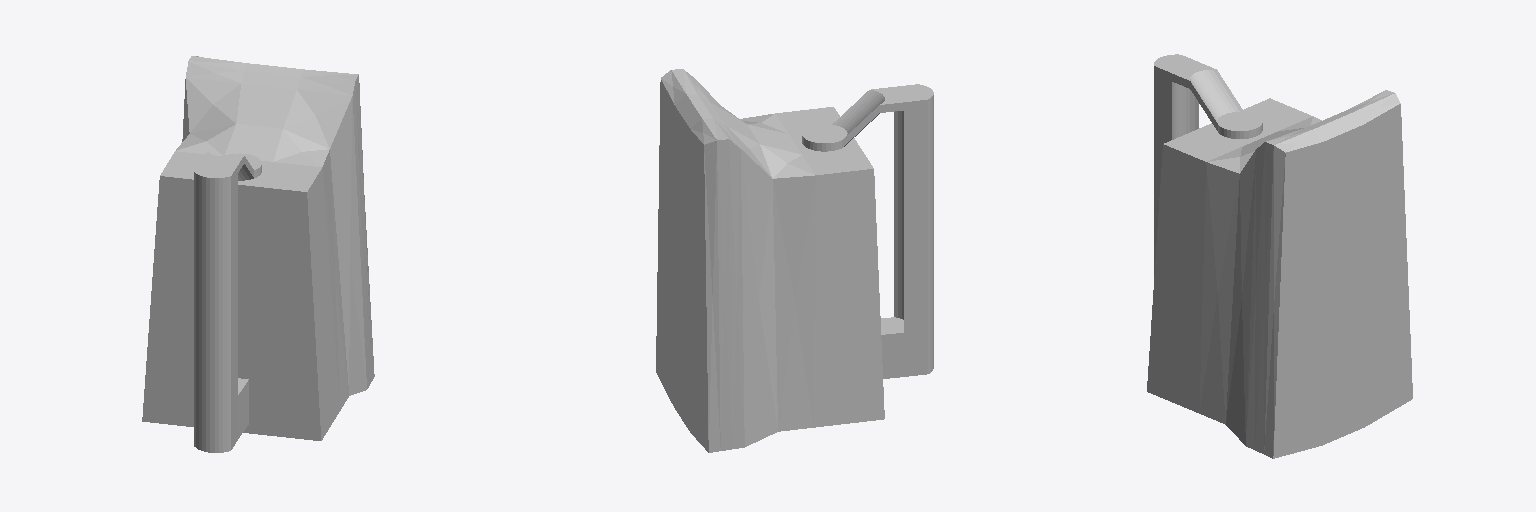
Rendered from CAIXA DE SOM.obj.
3 renders of one model, left to right at view 1: azimuth 30°, elevation 25°; view 2: azimuth 150°, elevation 25°; view 3: azimuth 270°, elevation 25°, orthographic.
Parts seen in each view (by area): view 1: Caixa_de_Som_Plane; view 2: Caixa_de_Som_Plane; view 3: Caixa_de_Som_Plane.
Part boxes in pixels (x1,y1,x2,y2): Caixa_de_Som_Plane: (142,56,374,452); Caixa_de_Som_Plane: (656,69,933,452); Caixa_de_Som_Plane: (1147,54,1412,458).
Bounding box in the file's own units: 0.5958 × 0.7871 × 0.5956.